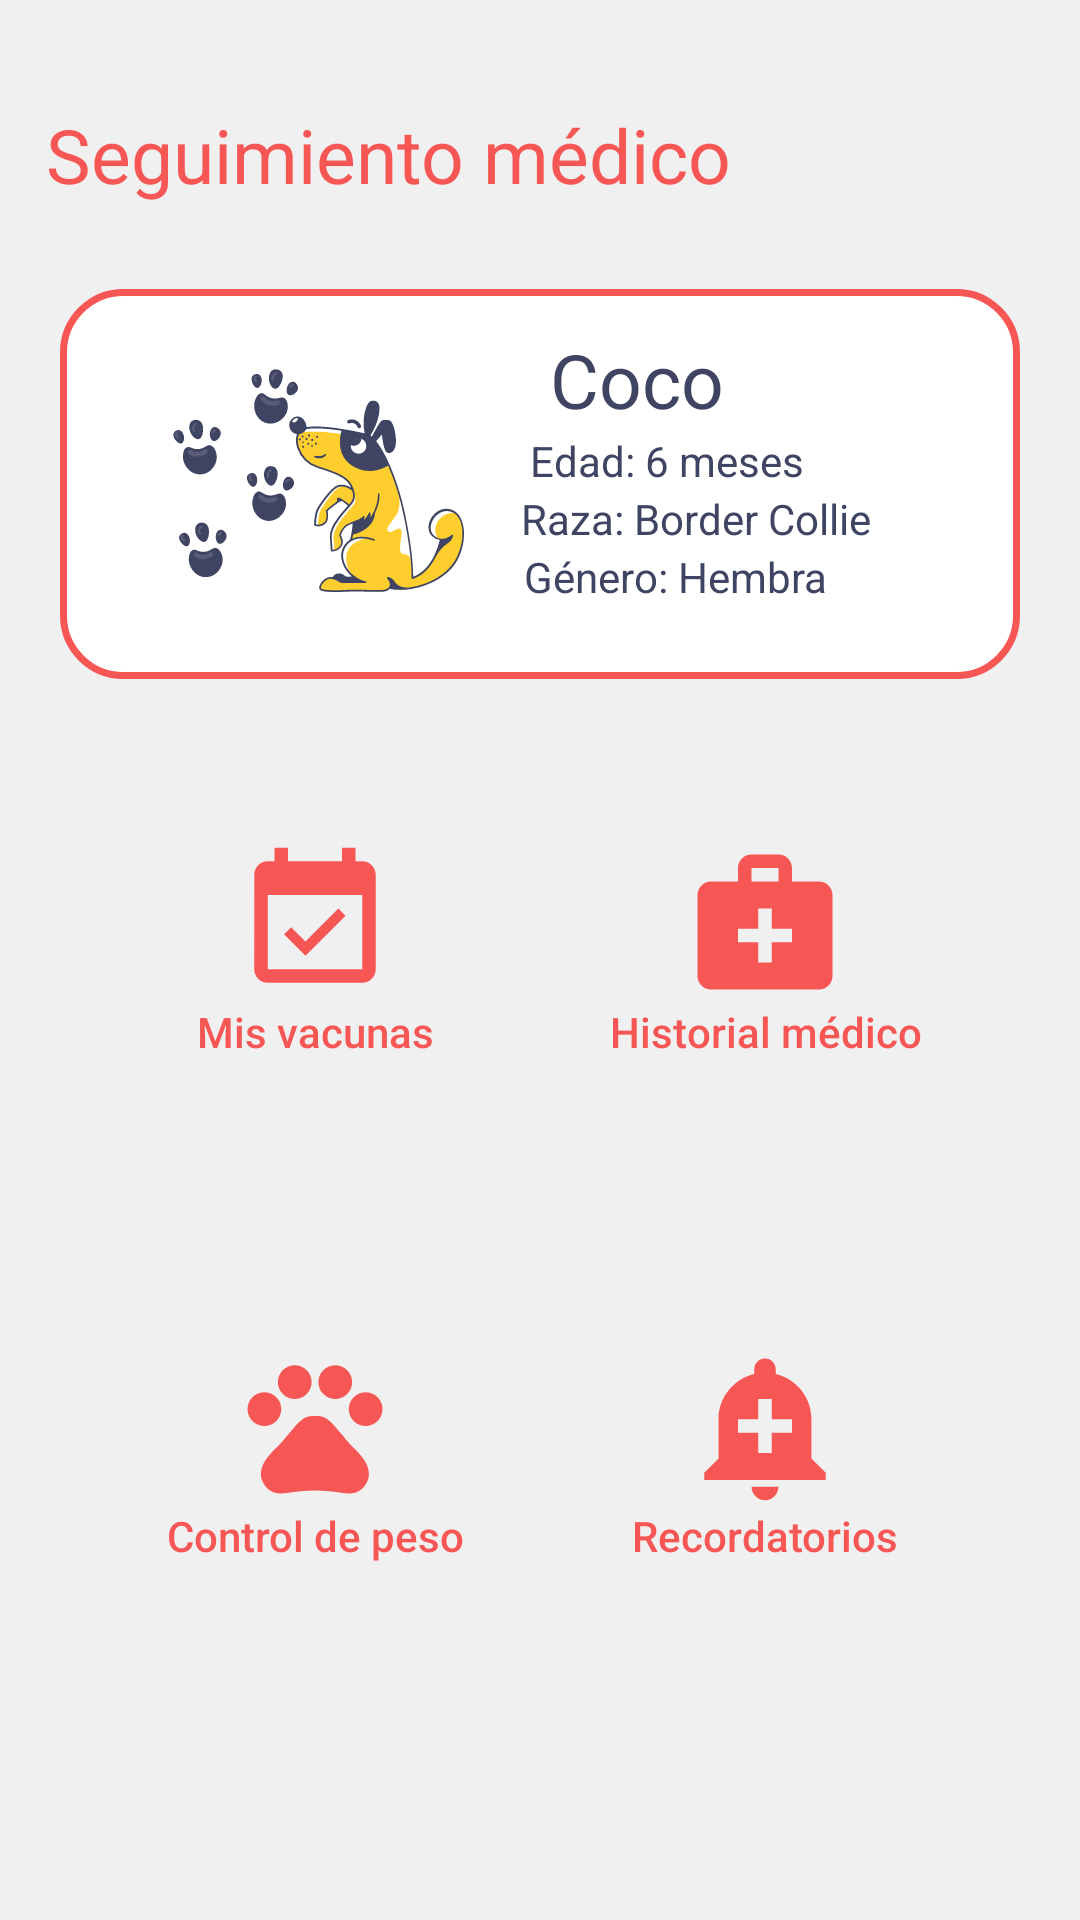

Screen size 1080*1920. Icon name, then its center in pixels as (x,y):
doggie: (318,480)
